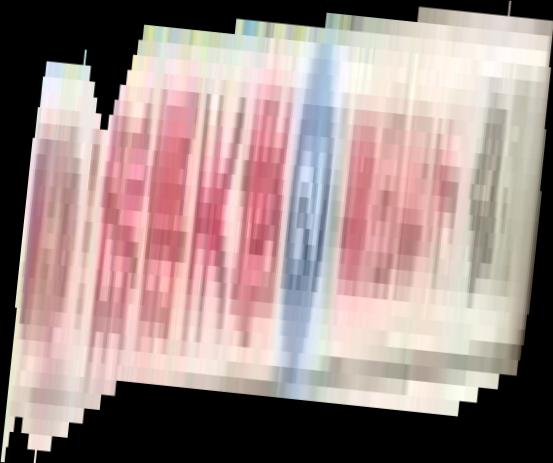flat: (1, 1, 553, 463)
